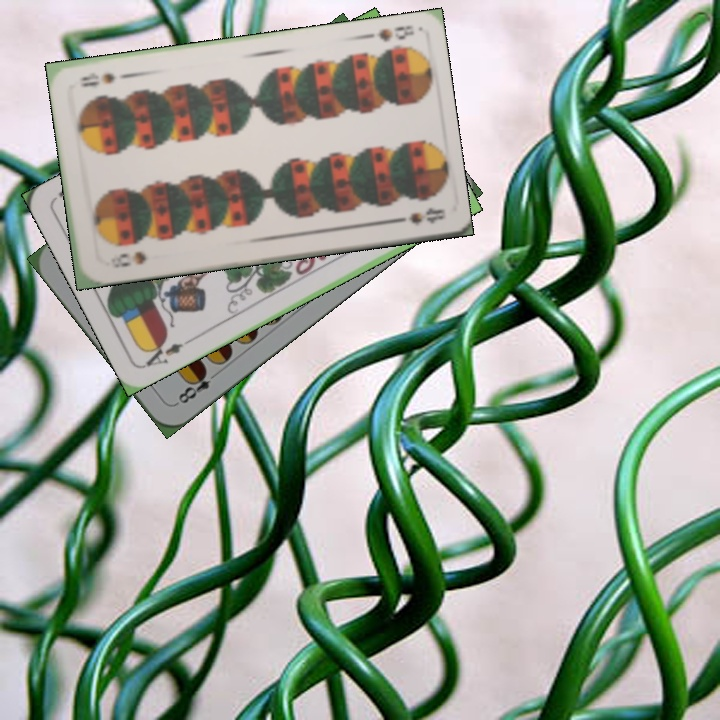E8: (171, 364, 222, 408)
EA: (139, 335, 194, 370)
S8: (373, 21, 417, 44), (109, 247, 149, 271)
